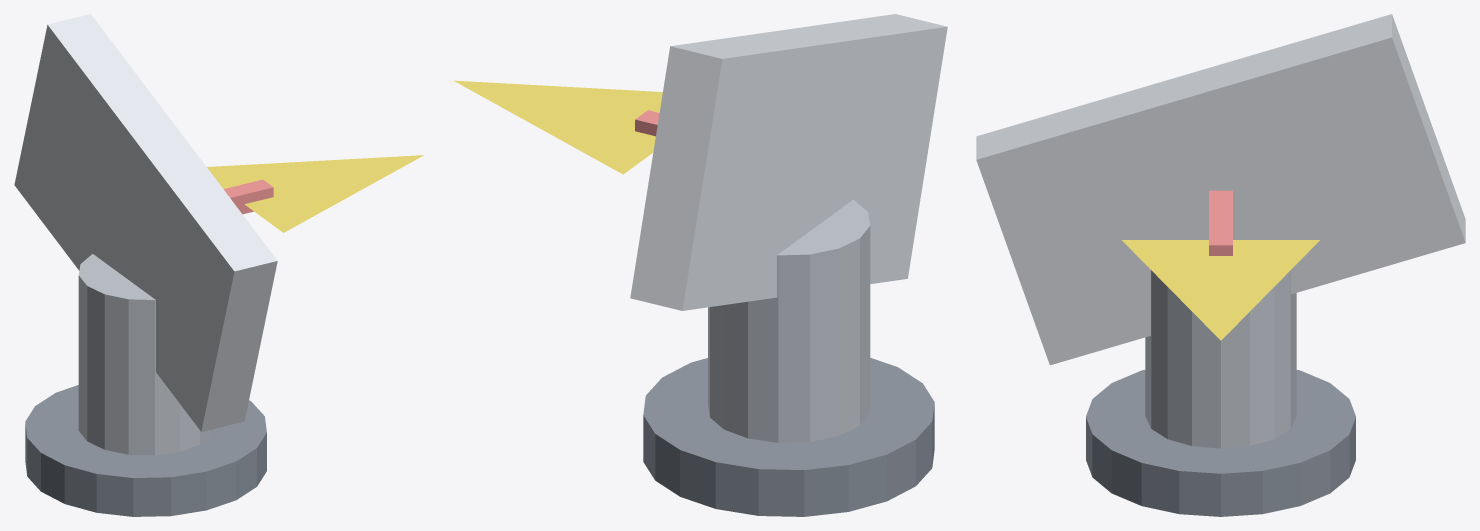
File: radar.glb
The picture shows the model from 3 angles, left to right: view 1: azimuth 30°, elevation 25°; view 2: azimuth 150°, elevation 25°; view 3: azimuth 270°, elevation 25°; orthographic projection. The views are drawn at different scales.
Bounding box in the file's own units: 12.4 × 12.05 × 12.32.
